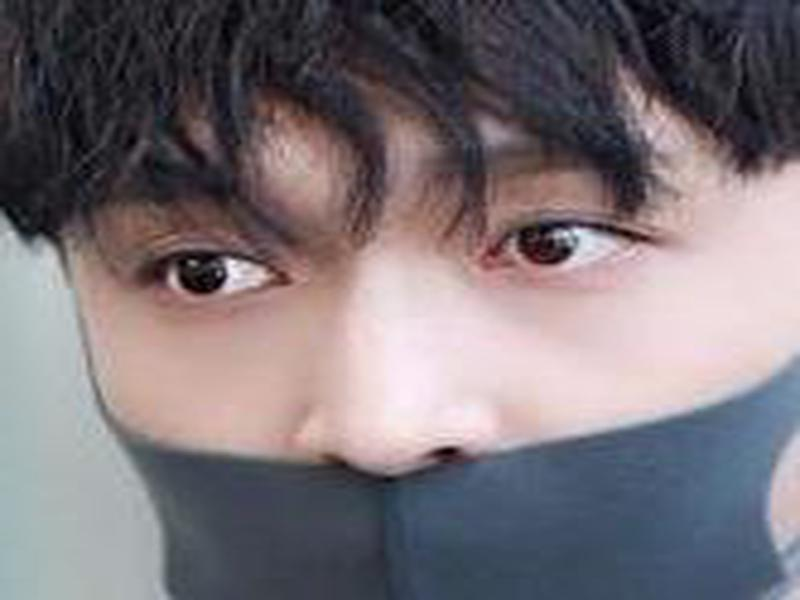with_mask: (33, 3, 797, 600)
